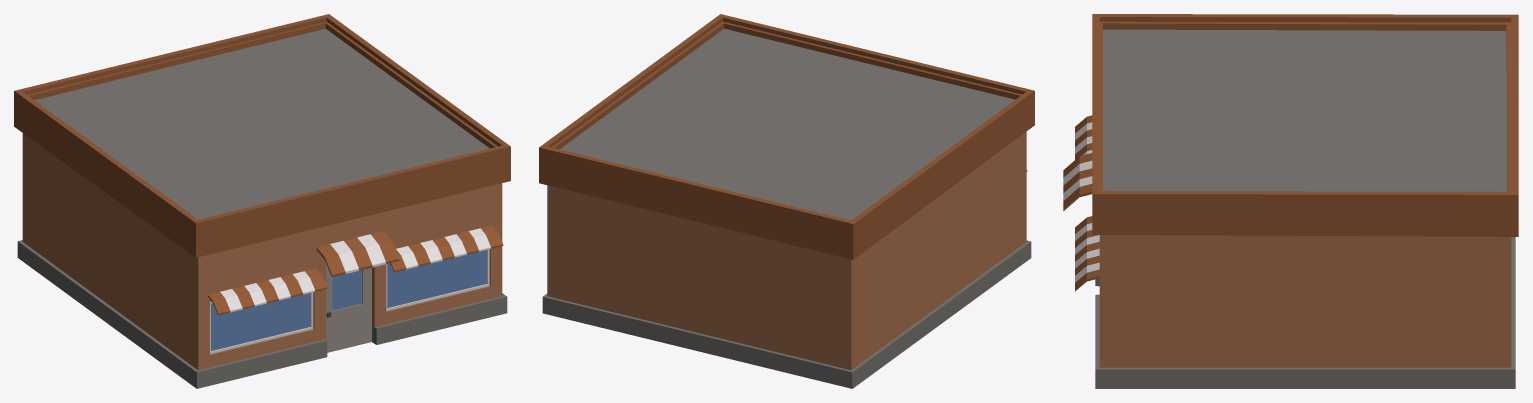
The model's file is House_13.fbx.
3 renders of one model, left to right at view 1: azimuth 30°, elevation 25°; view 2: azimuth 150°, elevation 25°; view 3: azimuth 270°, elevation 25°, orthographic. The views are drawn at different scales.
Visible parts, largest first — view 1: House_13; view 2: House_13; view 3: House_13.
Boxes of the visible parts, left/top/right/bottom form: House_13: left=14, top=14, right=510, bottom=388; House_13: left=539, top=14, right=1034, bottom=388; House_13: left=1063, top=14, right=1518, bottom=388.
Bounding box in the file's own units: 14.11 × 7.16 × 15.07.
